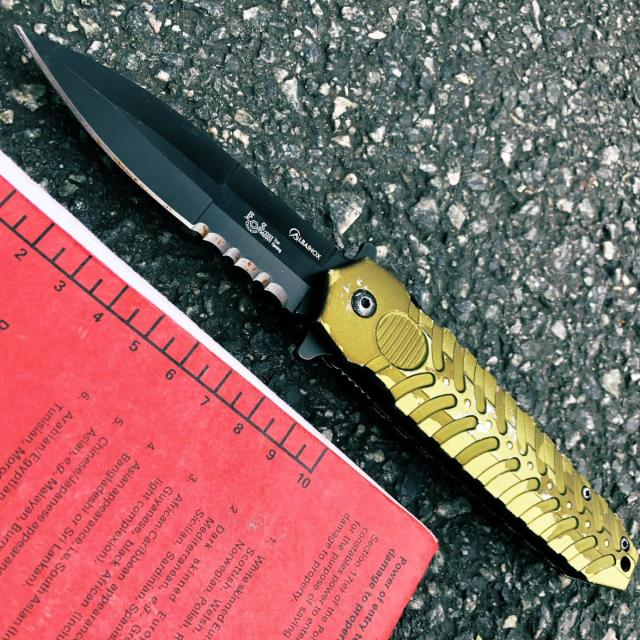Sharp-Object: (17, 18, 636, 593)
